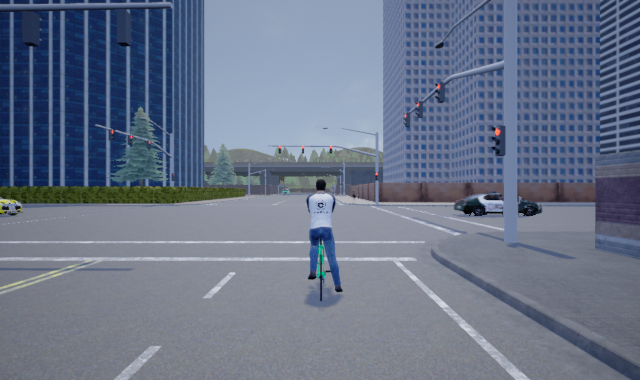bike: (305, 177, 343, 308)
vehicle: (452, 193, 542, 216), (1, 192, 22, 218)
